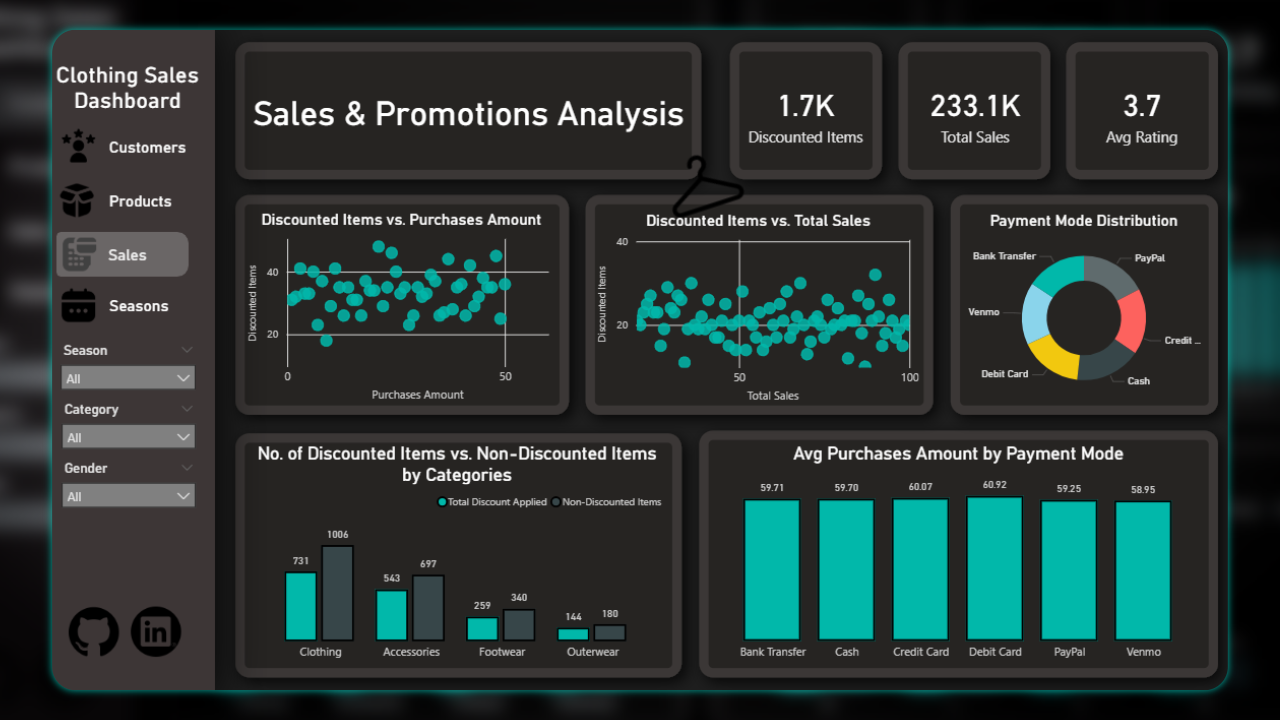

The page's visual inventory and layout, read from the dashboard file:
{"tool":"powerbi","page":{"name":"Sales","canvas":[1280,720],"ordinal":2},"visuals":[{"type":"shape","box":[217.2,27.3,483.4,134.2],"z":0},{"type":"card","fields":{"Values":["shopping_behavior_updated.Total Discount Applied"]},"box":[749.7,27.1,141.9,134.2],"z":1000},{"type":"card","fields":{"Values":["shopping_behavior_updated.Total Sales"]},"box":[931.6,27.1,141.9,134.2],"z":2000},{"type":"card","fields":{"Values":["shopping_behavior_updated.Avg Rating"]},"box":[1111.1,26.8,142,134.2],"z":3000},{"type":"shape","box":[0,0,185.5,134.2],"z":4000},{"type":"shape","box":[69.7,108.1,116.1,46.5],"z":5000},{"type":"image","box":[11.6,106.8,56.8,46.5],"z":6000},{"type":"shape","box":[69.7,166.2,116.1,46.5],"z":7000},{"type":"image","box":[15.5,164.9,46.5,47.7],"z":8000},{"type":"shape","box":[68.4,224.2,117.4,46.5],"z":9000},{"type":"image","box":[12.9,223.7,56.8,46.5],"z":10000},{"type":"shape","box":[69.8,278.3,116.1,46.5],"z":13000},{"type":"image","box":[11.8,278.3,56.8,46.5],"z":14000},{"type":"slicer","fields":{"Values":["shopping_behavior_updated.Season"]},"box":[11.1,337.5,164.8,63.3],"z":15000},{"type":"slicer","fields":{"Values":["shopping_behavior_updated.Category"]},"box":[12.2,400.8,163.7,63.3],"z":16000},{"type":"slicer","fields":{"Values":["shopping_behavior_updated.Gender"]},"box":[12.2,464.1,163.7,63.3],"z":17000},{"type":"image","box":[17.6,619.8,77.5,64.4],"z":18000},{"type":"image","box":[86.2,619.8,73.1,64.4],"z":19000},{"type":"actionButton","box":[12.9,162.6,147.1,51.6],"z":20000},{"type":"actionButton","box":[13.1,108,147.3,51.3],"z":21000},{"type":"actionButton","box":[15.4,275.3,147.3,51.3],"z":23000},{"type":"shape","box":[16.4,222.6,141.9,48],"z":24000},{"type":"scatterChart","title":"Discounted Items vs. Purchases Amount","fields":{"X":["shopping_behavior_updated.Previous Purchases"],"Y":["shopping_behavior_updated.Total Discount Applied"]},"box":[217.2,198.6,339.4,210.6],"z":25000},{"type":"scatterChart","title":"Discounted Items vs. Total Sales","fields":{"Y":["shopping_behavior_updated.Total Discount Applied"],"X":["shopping_behavior_updated.Purchase Amount (USD)"]},"box":[592.5,199.7,354.6,210.6],"z":26000},{"type":"donutChart","title":"Payment Mode Distribution","fields":{"Category":["shopping_behavior_updated.Payment Method"],"Y":["CountNonNull(shopping_behavior_updated.Item Purchased)"]},"box":[986.5,199.7,266.3,211.7],"z":27000},{"type":"lineClusteredColumnComboChart","title":"No. of Discounted Items vs. Non-Discounted Items by Categories","fields":{"Category":["shopping_behavior_updated.Category"],"Y":["shopping_behavior_updated.Total Discount Applied","shopping_behavior_updated.Non-Discounted Items"]},"box":[217.2,449.6,458.3,242.3],"z":28000},{"type":"clusteredColumnChart","title":"Avg Purchases Amount by Payment Mode","fields":{"Category":["shopping_behavior_updated.Payment Method"],"Y":["Avg(shopping_behavior_updated.Purchase Amount (USD))"]},"box":[716.9,449.6,535.8,242.3],"z":29000}]}

Visuals, with their boxes in screenshot pixels (x1, y1, x2, y2), scaled from the page's 1280x720 canvas onto the 1280x720 screenshot:
shape: detection(217, 27, 701, 162)
card - shopping_behavior_updated.Total Discount Applied: detection(750, 27, 892, 161)
card - shopping_behavior_updated.Total Sales: detection(932, 27, 1074, 161)
card - shopping_behavior_updated.Avg Rating: detection(1111, 27, 1253, 161)
shape: detection(0, 0, 186, 134)
shape: detection(70, 108, 186, 155)
image: detection(12, 107, 68, 153)
shape: detection(70, 166, 186, 213)
image: detection(16, 165, 62, 213)
shape: detection(68, 224, 186, 271)
image: detection(13, 224, 70, 270)
shape: detection(70, 278, 186, 325)
image: detection(12, 278, 69, 325)
slicer - shopping_behavior_updated.Season: detection(11, 338, 176, 401)
slicer - shopping_behavior_updated.Category: detection(12, 401, 176, 464)
slicer - shopping_behavior_updated.Gender: detection(12, 464, 176, 527)
image: detection(18, 620, 95, 684)
image: detection(86, 620, 159, 684)
actionButton: detection(13, 163, 160, 214)
actionButton: detection(13, 108, 160, 159)
actionButton: detection(15, 275, 163, 327)
shape: detection(16, 223, 158, 271)
"Discounted Items vs. Purchases Amount" scatterChart: detection(217, 199, 557, 409)
"Discounted Items vs. Total Sales" scatterChart: detection(592, 200, 947, 410)
"Payment Mode Distribution" donutChart: detection(986, 200, 1253, 411)
"No. of Discounted Items vs. Non-Discounted Items by Categories" lineClusteredColumnComboChart: detection(217, 450, 676, 692)
"Avg Purchases Amount by Payment Mode" clusteredColumnChart: detection(717, 450, 1253, 692)
